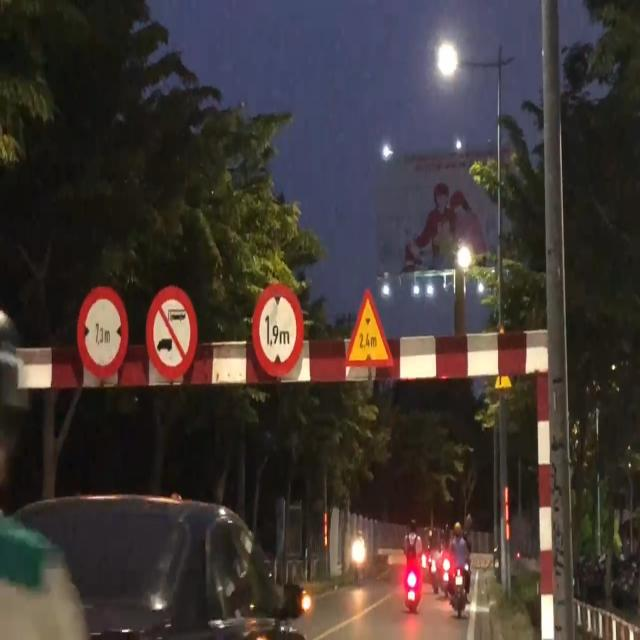Bien bao cam xe oto khach va xe oto tai: (142, 271, 198, 386)
Bien bao chieu cao tinh khong thuc te: (342, 283, 398, 376)
Bien bao han che chieu cao: (250, 275, 310, 389)
